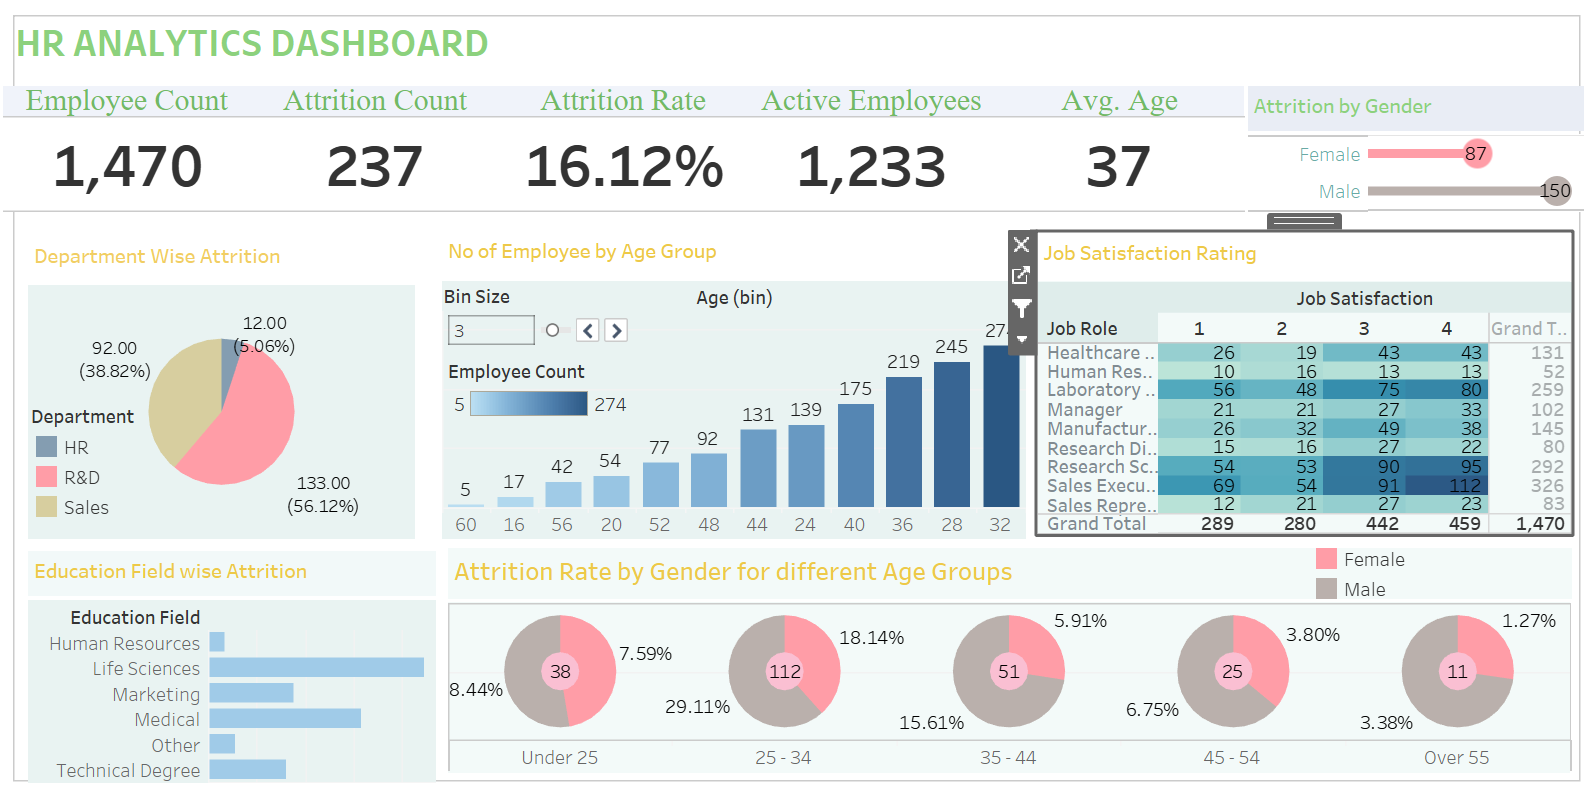

Layout of this report page (visuals, bound fields, positions):
{"tool":"tableau","page":{"name":"HR ANALYTICS DASHBOARD","canvas":[1000,1000],"units":"permille","ordinal":0},"visuals":[{"type":"text","box":[10.3,7.5,408.8,93.5]},{"type":"image","box":[7.5,15,985,970.1]},{"type":"worksheet","title":"KPI","mark":"Automatic","box":[4.7,110.3,774.6,157]},{"type":"worksheet","title":"Attrition By Gender","mark":"Automatic","rows":["Gender"],"cols":["Calculation_690176655797424128","Calculation_690176655797424128"],"box":[781.1,110.3,209.5,157]},{"type":"worksheet","title":"No of Employee by Age Group","mark":"Automatic","rows":["Employee Count"],"cols":["Age (bin)"],"box":[278.8,291.6,363.9,383.2]},{"type":"worksheet","title":"Job Satisfaction Rating","mark":"Square","rows":["Job Role"],"cols":["Job Satisfaction"],"box":[650.1,293.5,333,375.7]},{"type":"worksheet","title":"Department Wise Attrition","mark":"Pie","box":[20.6,297.2,241.3,377.6]},{"type":"parameter","param":"[Parameters].[Parameter 1]","box":[279.7,357,117.9,102.8]},{"type":"legend","title":"No of Employee by Age Group","param":"[federated.0j6ush01djdyzs17cng8t0x2p2np].[sum:Employee Count:qk]","box":[282.5,450.5,116,80.4]},{"type":"legend","title":"Department Wise Attrition","param":"[federated.0j6ush01djdyzs17cng8t0x2p2np].[none:Department:nk]","box":[22.4,506.5,87,164.5]},{"type":"legend","title":"Attrition Rate by Gender for different Age Groups","param":"[federated.0j6ush01djdyzs17cng8t0x2p2np].[none:Gender:nk]","box":[820.4,680.4,116,84.1]},{"type":"worksheet","title":"Attrition Rate by Gender for different Age Groups","mark":"Pie","rows":["Calculation_1366279552096911361","Calculation_1366279552096911361"],"cols":["CF_age band"],"box":[282.5,686,700.6,280.4]},{"type":"worksheet","title":"Education Field wise Attrition","mark":"Automatic","rows":["Education Field"],"cols":["Calculation_690176655797424128"],"box":[20.6,689.7,254.4,289.7]}]}

Visuals, with their boxes on the dashboard's canvas, which has no fixed pixel size, in thousandths of its width and height (x1, y1, x2, y2). These are canvas units, not pixel positions in the 1596x796 screenshot, which may show the page scaled, cropped or inside an application window:
text: 10/8/419/101
image: 8/15/992/985
"KPI" worksheet: 5/110/779/267
"Attrition By Gender" worksheet: 781/110/991/267
"No of Employee by Age Group" worksheet: 279/292/643/675
"Job Satisfaction Rating" worksheet (Square marks): 650/294/983/669
"Department Wise Attrition" worksheet (Pie marks): 21/297/262/675
parameter: 280/357/398/460
"No of Employee by Age Group" legend: 282/450/398/531
"Department Wise Attrition" legend: 22/506/109/671
"Attrition Rate by Gender for different Age Groups" legend: 820/680/936/764
"Attrition Rate by Gender for different Age Groups" worksheet (Pie marks): 282/686/983/966
"Education Field wise Attrition" worksheet: 21/690/275/979
